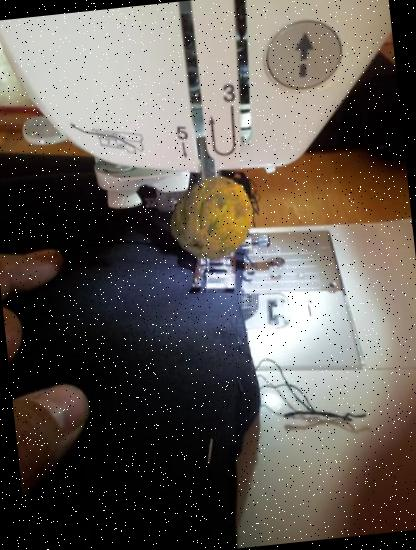Cantaloupe: (166, 170, 262, 268)
